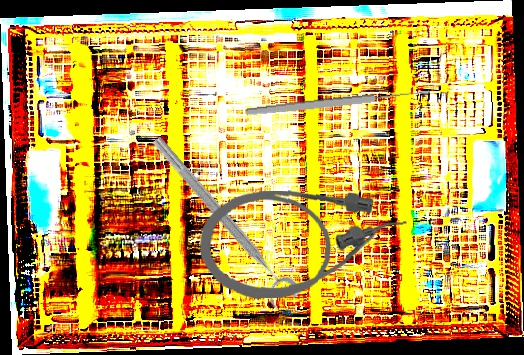Cannula: (196, 186, 410, 301)
Fixation Ring: (138, 131, 304, 314)
Surgical Spoon: (244, 87, 432, 118)
